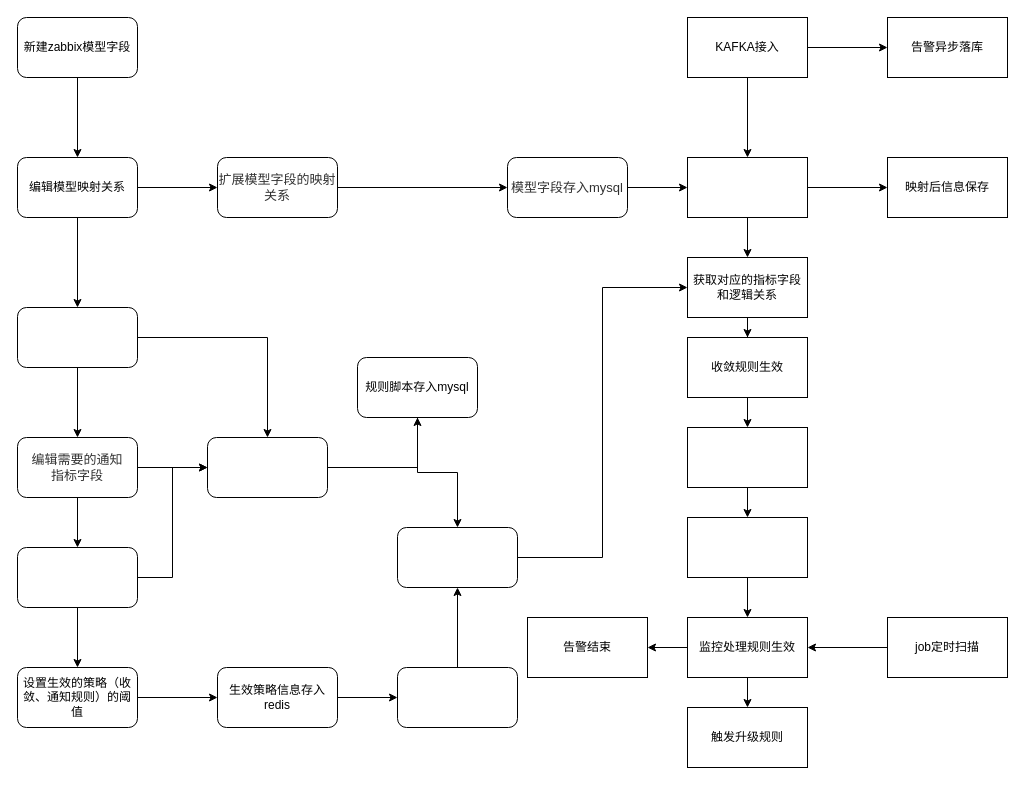
Some shapes in this 1025 by 785 pixel diagram are drawn without their labels. Here are the shapes that lost their labels. From the top down, the centre of each, then its label:
(x=747, y=187): 获取字段映射，字段扩展关系
(x=77, y=337): 编辑需要的收敛指标字段
(x=267, y=467): 指标字段通过前端页面合并未规则脚本
(x=747, y=457): 通知规则生效
(x=457, y=557): 逻辑关系编译后存入map中
(x=747, y=547): 联动CMDB推送
(x=77, y=577): 编辑需要的监控处理方式 字段
(x=457, y=697): 生效策略信息存入mysql
